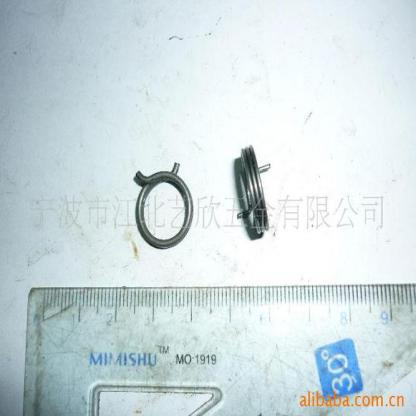FOD: (131, 160, 195, 249), (232, 145, 274, 240)
